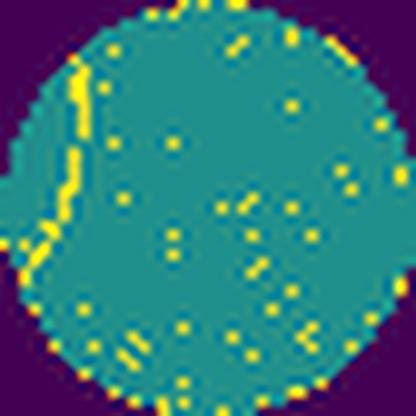Scratch: (18, 56, 96, 290)
